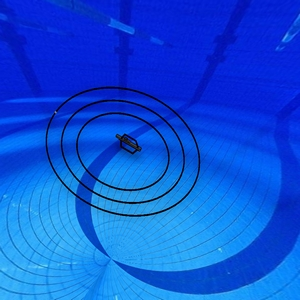circle: (41, 82, 204, 216)
submarine: (114, 132, 149, 159)
